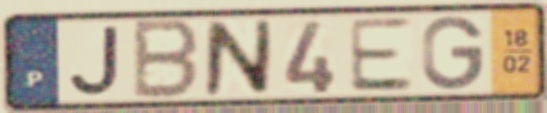4: (280, 17, 340, 96)
B: (129, 17, 202, 102)
E: (345, 15, 417, 95)
G: (419, 13, 487, 93)
J: (66, 23, 122, 98)
N: (201, 18, 275, 98)
